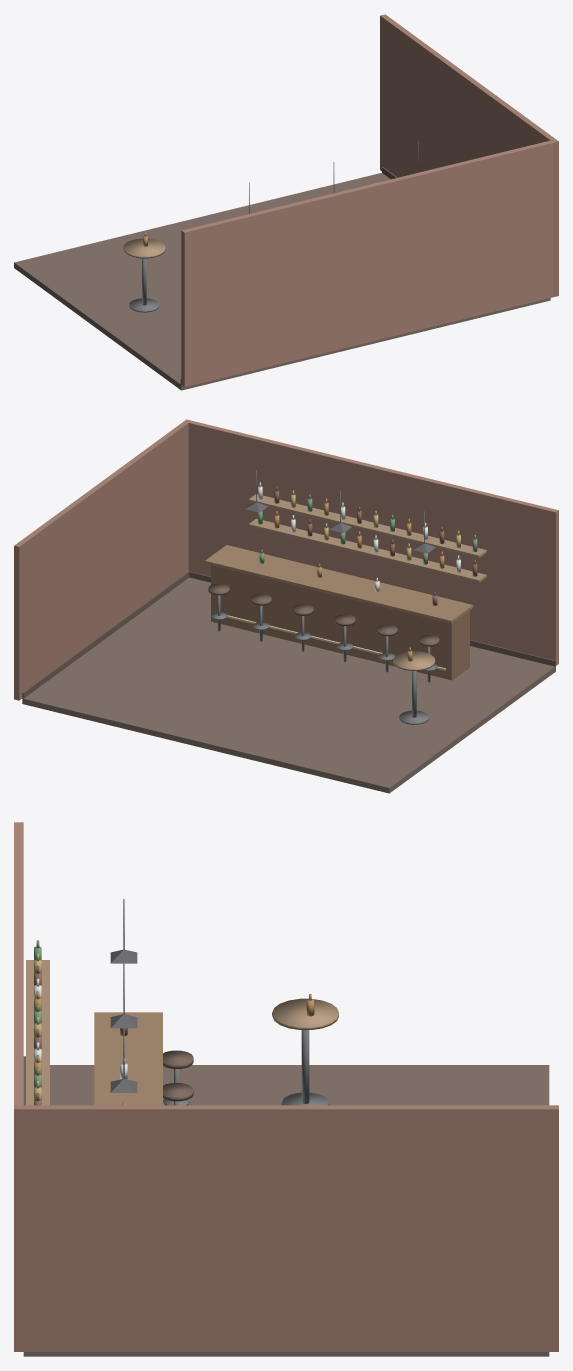
The model's file is salida.bar.fbx.
3 views of the same model, one above another, from view 1: azimuth 30°, elevation 25°; view 2: azimuth 150°, elevation 25°; view 3: azimuth 270°, elevation 25° (orthographic). The views are drawn at different scales.
Parts seen in each view (by area): view 1: Muro del fondo, Piso, Muro lateral, Mesa alta; view 2: Piso, Muro del fondo, Muro lateral, Barra, Cubierta de la barra, Repisa, Repisa.001, Zócalo.001, Zócalo, Mesa alta; view 3: Muro lateral, Piso, Cubierta de la barra, Muro del fondo, Repisa.001, Mesa alta, Pata.
Boxes of the visible parts, bbox=[...] form: Muro del fondo: bbox=[181, 140, 553, 387]; Piso: bbox=[14, 173, 550, 390]; Muro lateral: bbox=[380, 14, 558, 296]; Mesa alta: bbox=[123, 238, 165, 258]; Piso: bbox=[22, 577, 555, 793]; Muro del fondo: bbox=[188, 421, 558, 665]; Muro lateral: bbox=[14, 419, 191, 700]; Barra: bbox=[211, 565, 469, 680]; Cubierta de la barra: bbox=[205, 545, 473, 623]; Repisa: bbox=[248, 518, 486, 582]; Repisa.001: bbox=[248, 494, 486, 557]; Zócalo.001: bbox=[22, 571, 189, 698]; Zócalo: bbox=[189, 571, 555, 666]; Mesa alta: bbox=[393, 651, 435, 670]; Muro lateral: bbox=[14, 1105, 558, 1351]; Piso: bbox=[23, 1065, 549, 1356]; Cubierta de la barra: bbox=[94, 1012, 162, 1105]; Muro del fondo: bbox=[14, 822, 23, 1105]; Repisa.001: bbox=[26, 960, 49, 1105]; Mesa alta: bbox=[272, 998, 338, 1029]; Pata: bbox=[301, 1030, 309, 1103].
Size of the model in its own units: 7.1 by 2.9 by 5.7.
